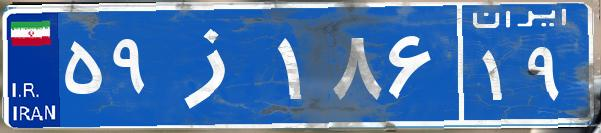1: (273, 28, 330, 110), (475, 38, 525, 113)
5: (57, 26, 110, 107)
6: (385, 28, 445, 110)
8: (330, 28, 385, 110)
9: (110, 28, 158, 105), (525, 38, 570, 115)
ز: (158, 15, 273, 115)
